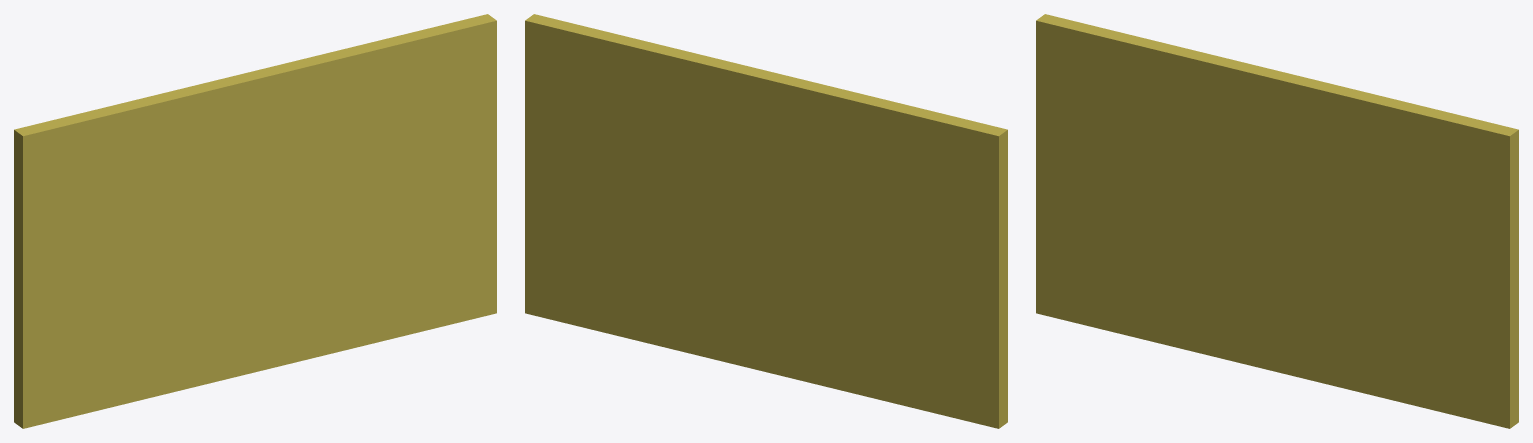
The model's file is R4UGame_6Walls.fbx.
3 renders of one model, left to right at view 1: azimuth 30°, elevation 25°; view 2: azimuth 150°, elevation 25°; view 3: azimuth 330°, elevation 25°, orthographic.
Visible parts, largest first — view 1: WALL7, WALL8, WALL9, WALL10, WALL11, WALL12; view 2: WALL7, WALL8, WALL10, WALL9, WALL12, WALL11; view 3: WALL7, WALL8, WALL9, WALL10, WALL12, WALL11.
Boxes of the visible parts, bbox=[...] form: WALL7: bbox=[14, 14, 496, 428]; WALL8: bbox=[14, 21, 496, 428]; WALL9: bbox=[14, 21, 496, 427]; WALL10: bbox=[14, 15, 496, 428]; WALL11: bbox=[23, 21, 496, 424]; WALL12: bbox=[23, 22, 496, 418]; WALL7: bbox=[525, 14, 1007, 428]; WALL8: bbox=[525, 16, 998, 426]; WALL10: bbox=[525, 16, 1002, 428]; WALL9: bbox=[525, 22, 998, 427]; WALL12: bbox=[525, 24, 998, 422]; WALL11: bbox=[525, 22, 998, 425]; WALL7: bbox=[1036, 14, 1518, 428]; WALL8: bbox=[1036, 14, 1509, 428]; WALL9: bbox=[1036, 16, 1509, 427]; WALL10: bbox=[1036, 14, 1509, 426]; WALL12: bbox=[1036, 24, 1509, 427]; WALL11: bbox=[1036, 22, 1509, 426].
Size of the model in its own units: 66 by 38.95 by 2.19.
